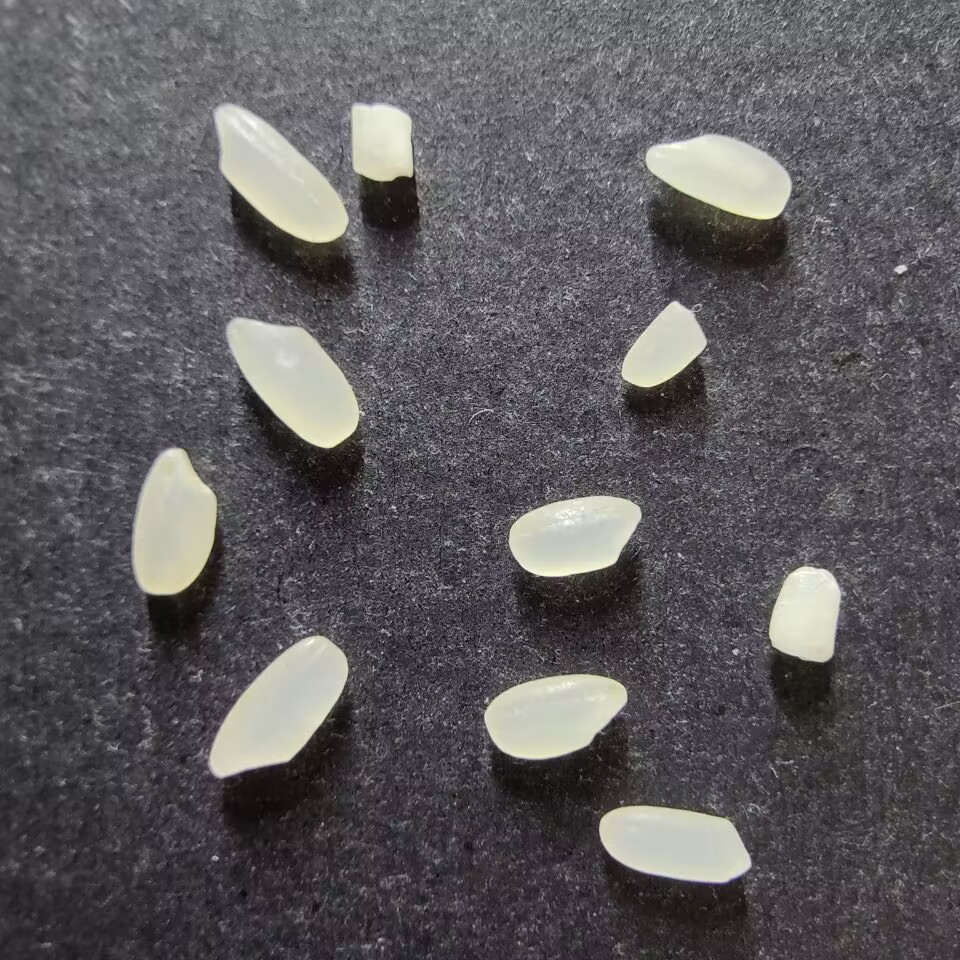broken: (620, 300, 705, 388), (766, 566, 841, 664), (350, 103, 413, 182)
rice: (208, 634, 348, 779), (213, 103, 349, 243), (225, 317, 360, 449), (131, 446, 217, 595), (644, 134, 791, 220), (484, 673, 627, 759), (598, 804, 751, 883), (507, 495, 642, 577)
